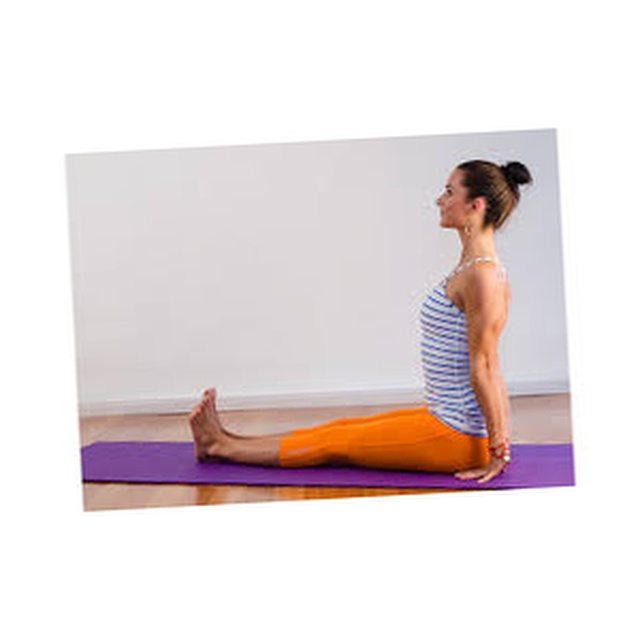Staff_Pose: (190, 160, 535, 483)
